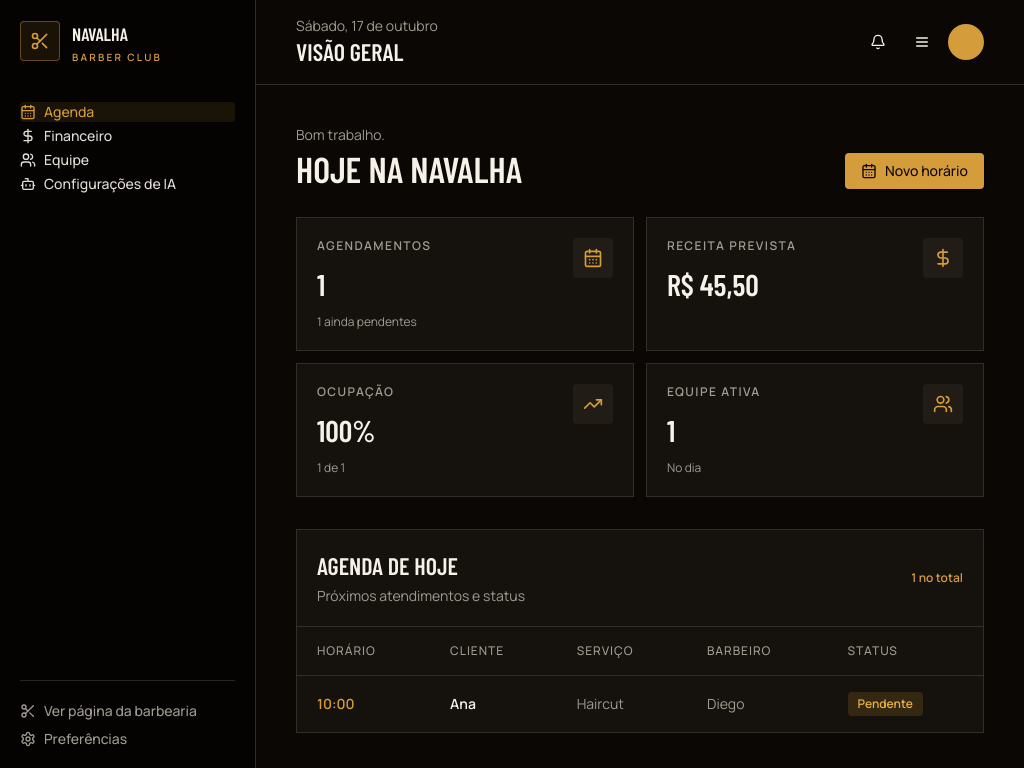
Test case: Dashboard › opens the appointment and completes it from the modal
Click the row "10:00 Ana Haircut Diego Pendente". click: [336, 704]
box: 297,676 -> 983,732
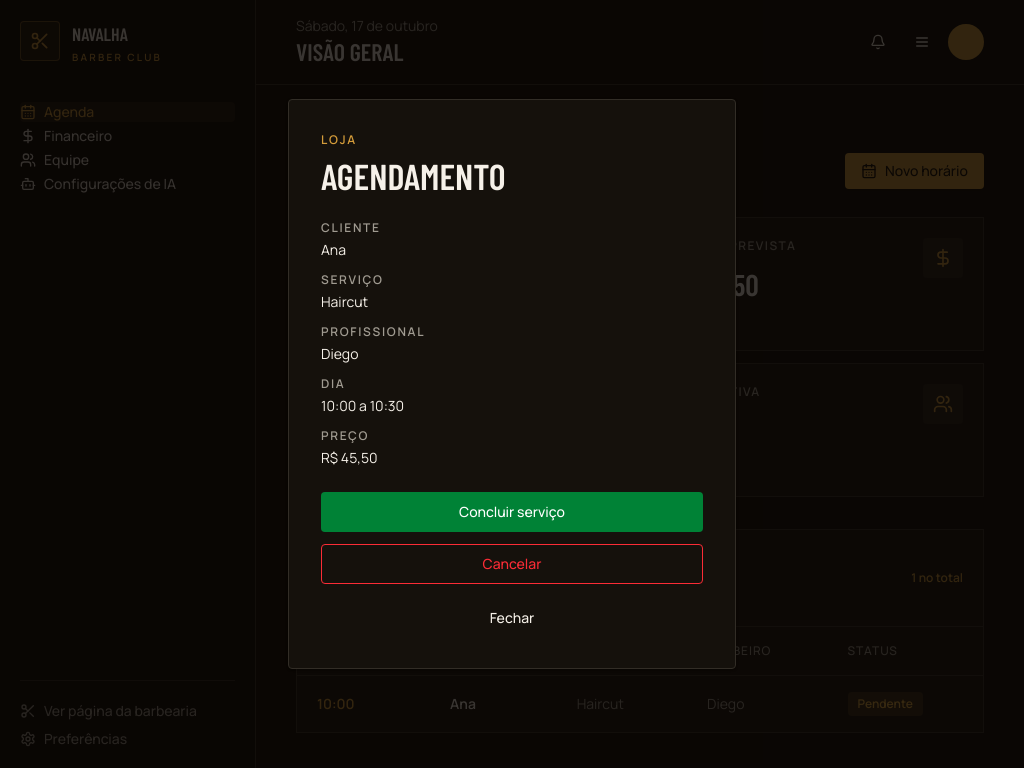
Expected: the text "Ana" is shown, 430,676 -> 557,732
Expected: the text "10:00 a 10:30" is shown, 321,396 -> 404,415
Expected: the button with test id "complete-appointment" is shown
Click the button with test id "complete-appointment". click: [512, 512]
box: 321,492 -> 703,532
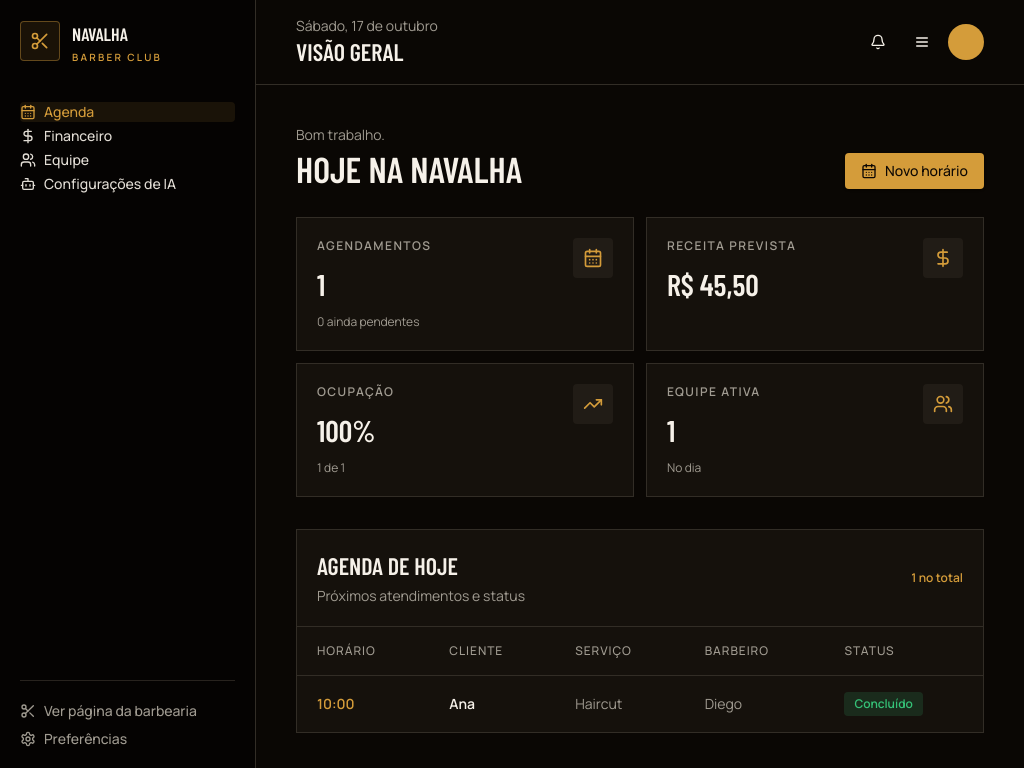
Expected: the text "Concluído" is shown, 844,692 -> 923,716
